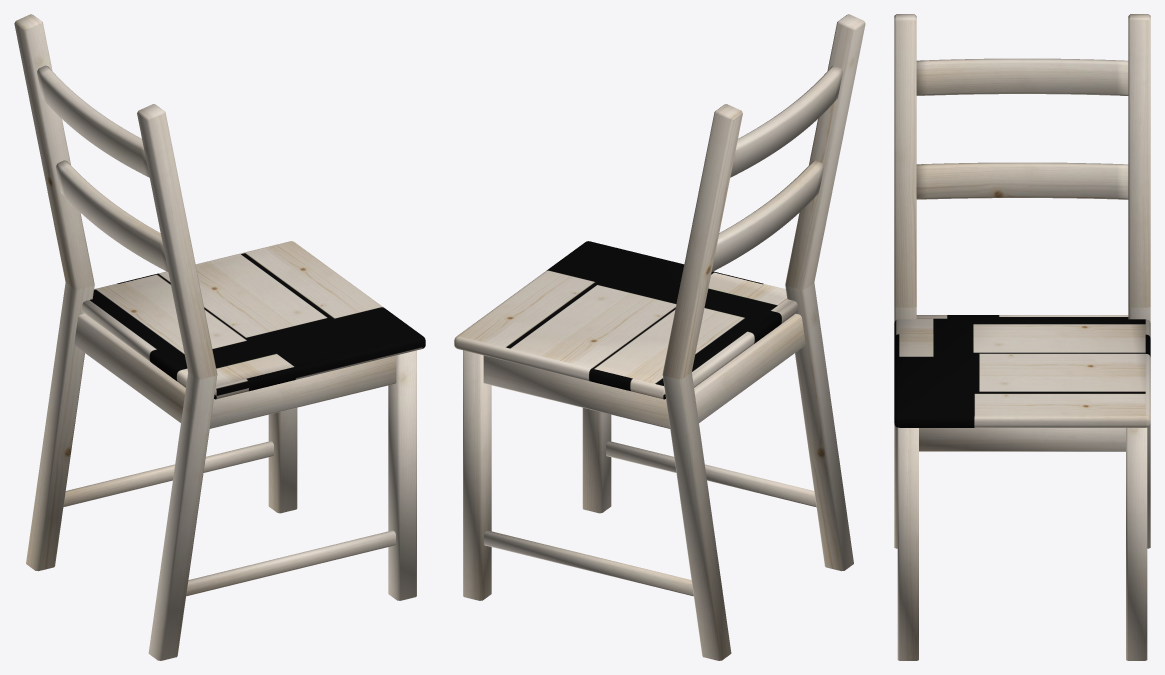
File: chair.glb
3 renders of one model, left to right at view 1: azimuth 30°, elevation 25°; view 2: azimuth 150°, elevation 25°; view 3: azimuth 270°, elevation 25°, orthographic. The views are drawn at different scales.
Visible parts, largest first — view 1: Cover; view 2: Cover; view 3: Cover.
Boxes of the visible parts, x1,y1,x2,y2 form: Cover: (14, 14, 425, 660); Cover: (454, 14, 865, 660); Cover: (894, 14, 1150, 660).
Size of the model in its own units: 0.4804 by 0.9 by 0.3995.
Materials: 1 (1 with a texture image).
